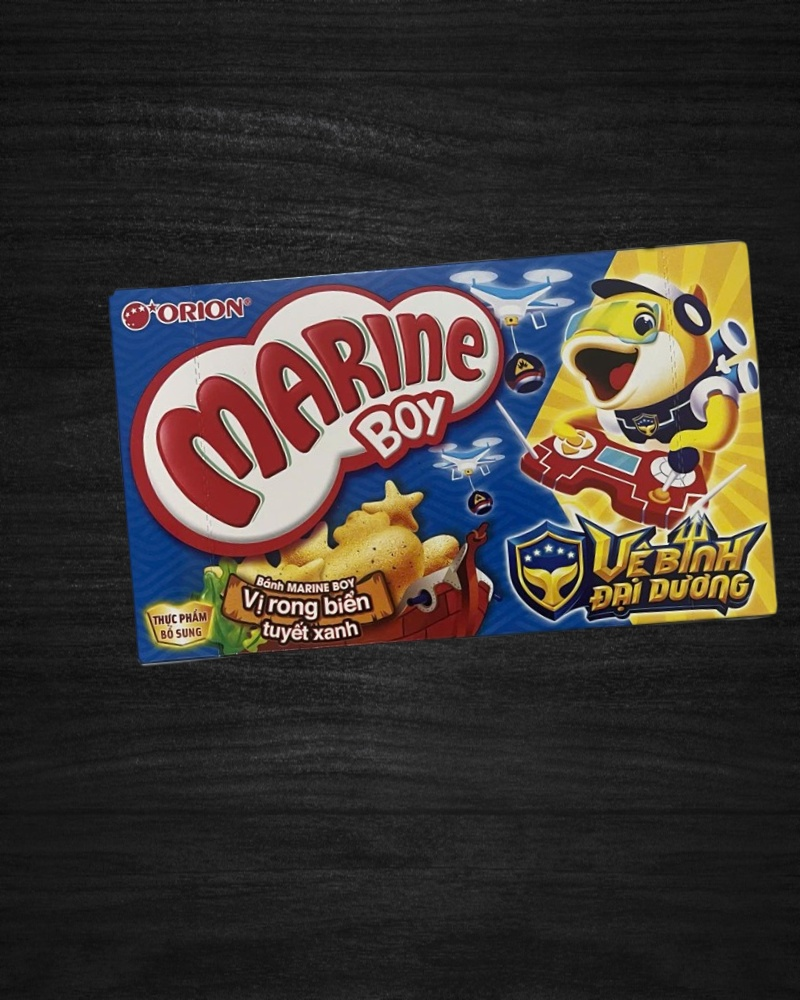Marine: (108, 235, 782, 672)
